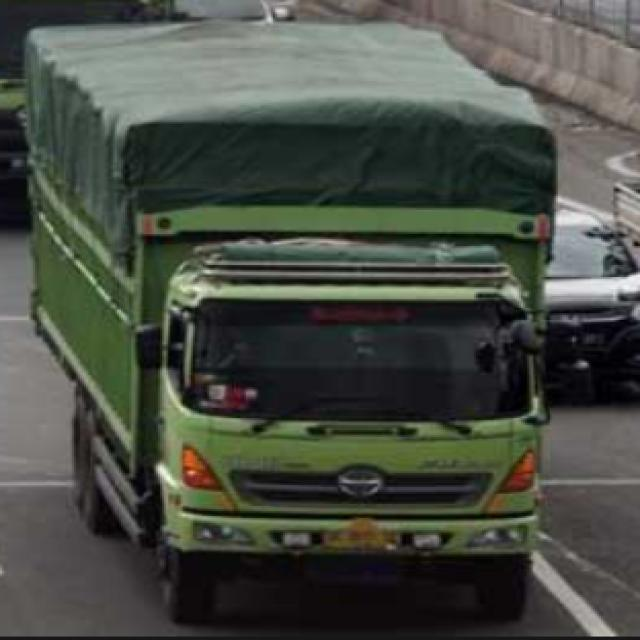truck: (26, 12, 564, 630)
